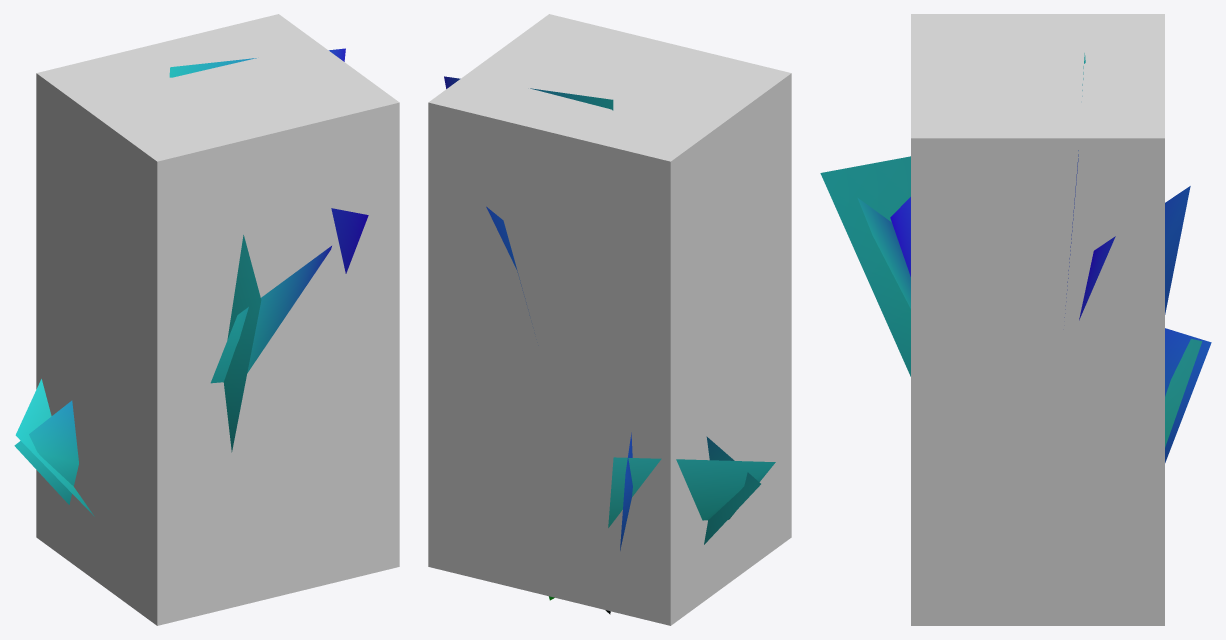
Rendered from lush_grass_01_b.dae.
The picture shows the model from 3 angles, left to right: view 1: azimuth 30°, elevation 25°; view 2: azimuth 150°, elevation 25°; view 3: azimuth 270°, elevation 25°; orthographic projection. The views are drawn at different scales.
Parts seen in each view (by area): view 1: Untitled, tree_oak_bush_a80; view 2: Untitled, tree_oak_bush_a80; view 3: Untitled, tree_oak_bush_a80.
Part boxes in pixels (x1,y1,x2,y2): Untitled: [36, 14, 399, 625]; tree_oak_bush_a80: [14, 48, 368, 516]; Untitled: [428, 14, 791, 625]; tree_oak_bush_a80: [444, 76, 775, 614]; Untitled: [911, 14, 1164, 625]; tree_oak_bush_a80: [820, 53, 1211, 462].
Bounding box in the file's own units: 1.12 × 1.1 × 1.63.
